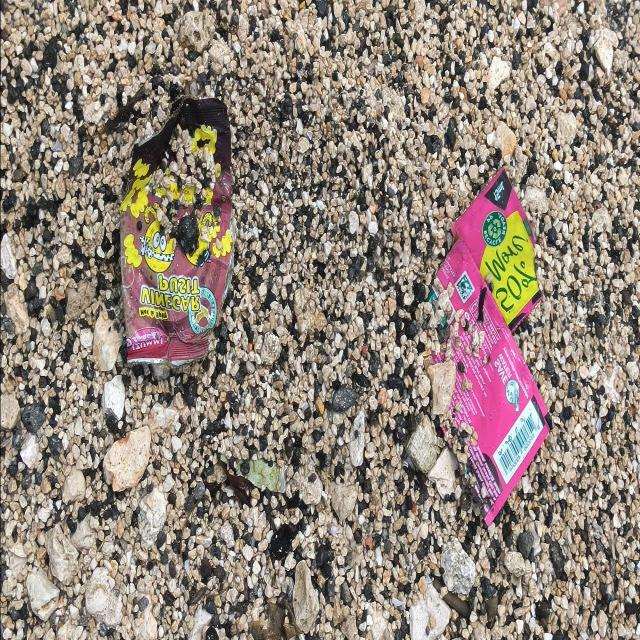plastic_waste: (430, 172, 553, 524), (120, 98, 236, 368)
